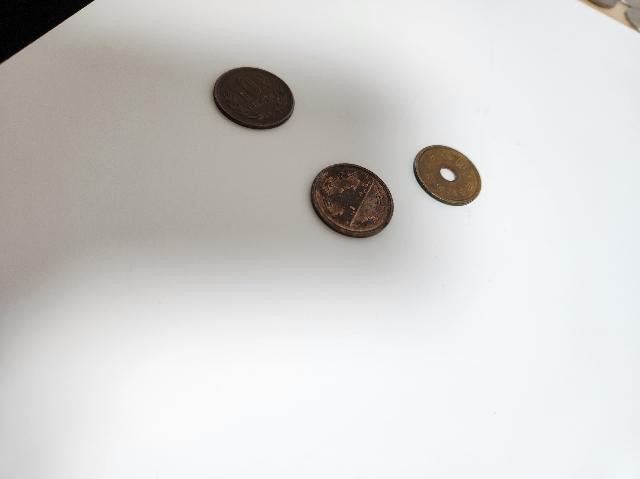coin: (308, 162, 396, 236), (214, 66, 296, 128), (413, 142, 481, 204)
